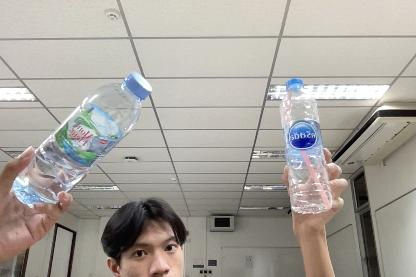Plastic Bottle: (11, 67, 159, 216), (276, 74, 342, 219)
